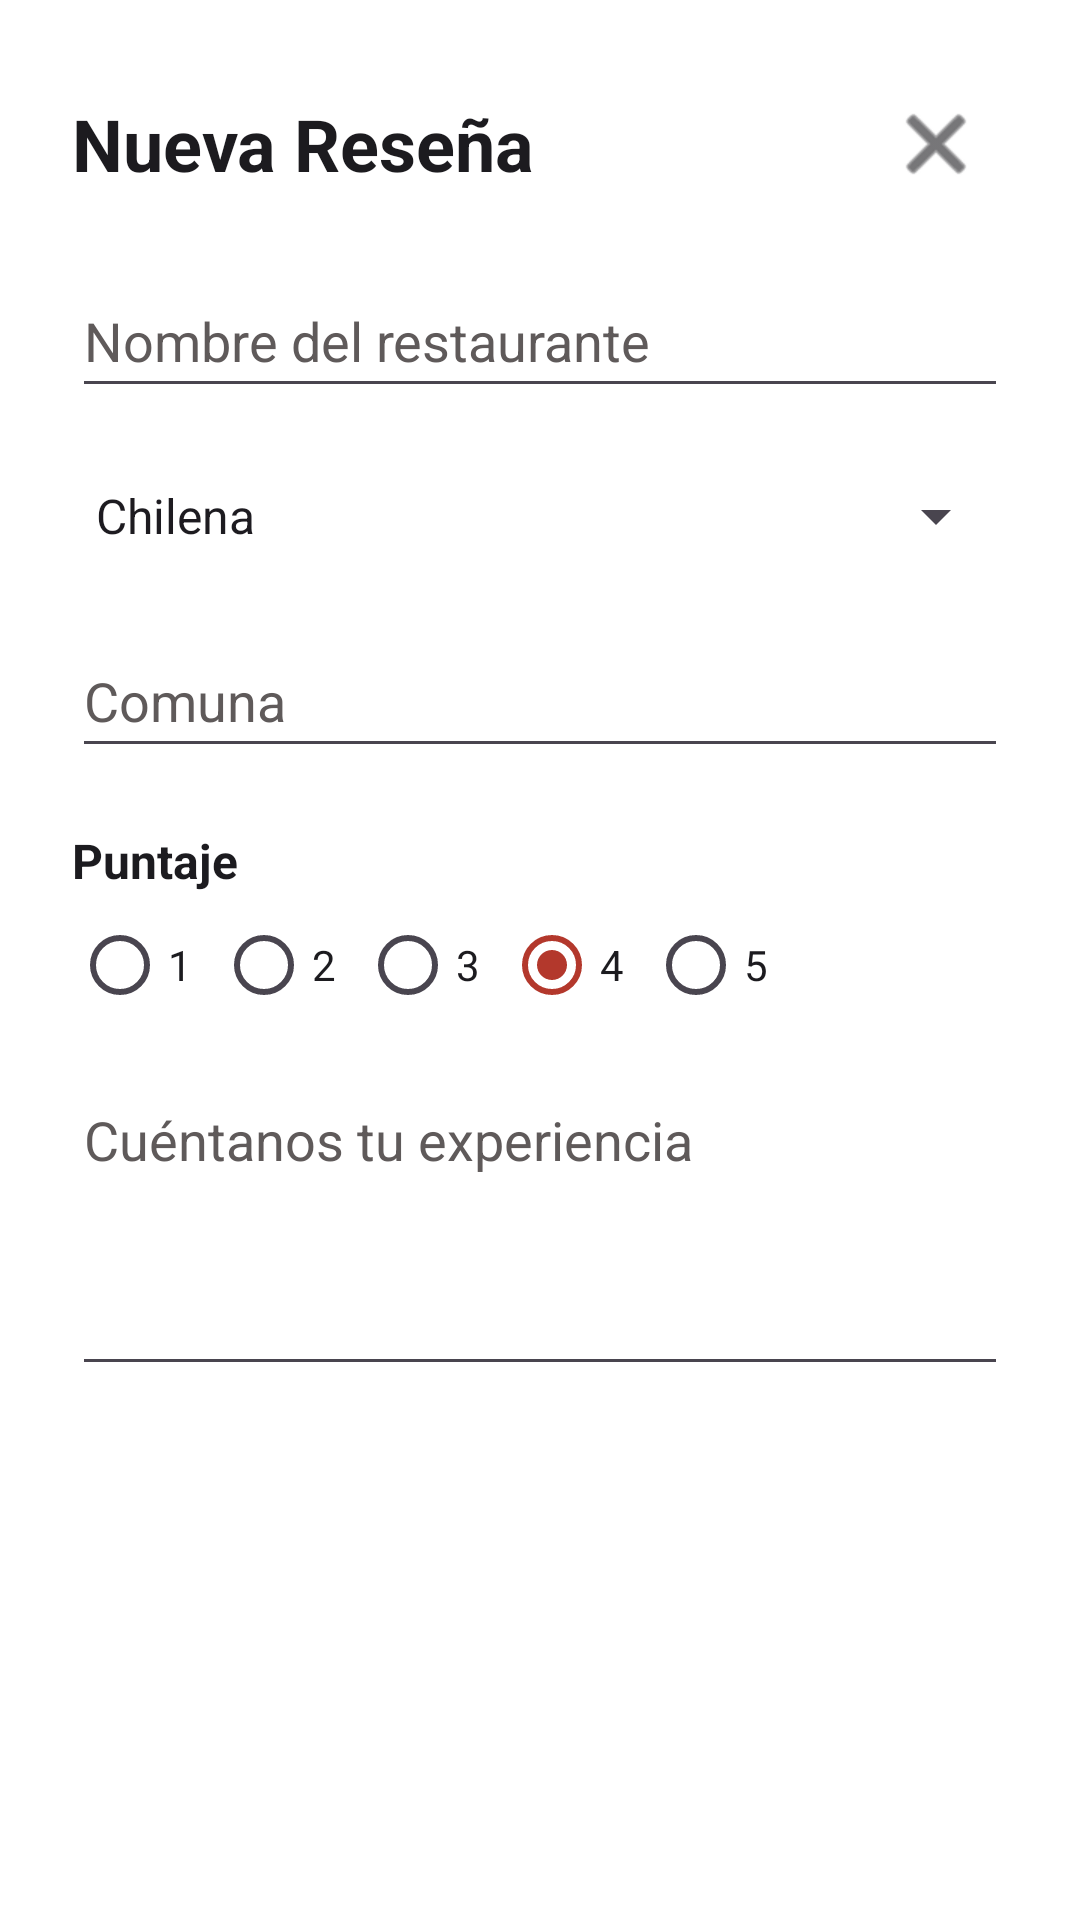

Icon bounding boxes for this 1080px×1920px phone screenshot, format Rect(x1, y1, x2, y2):
Volver: Rect(906, 114, 966, 174)
